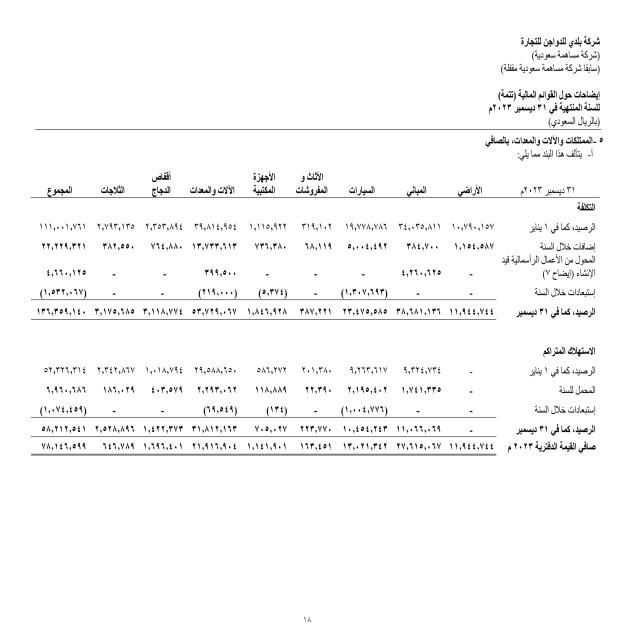notes: (498, 90, 603, 102)
table: (13, 173, 605, 338), (13, 345, 604, 482)
